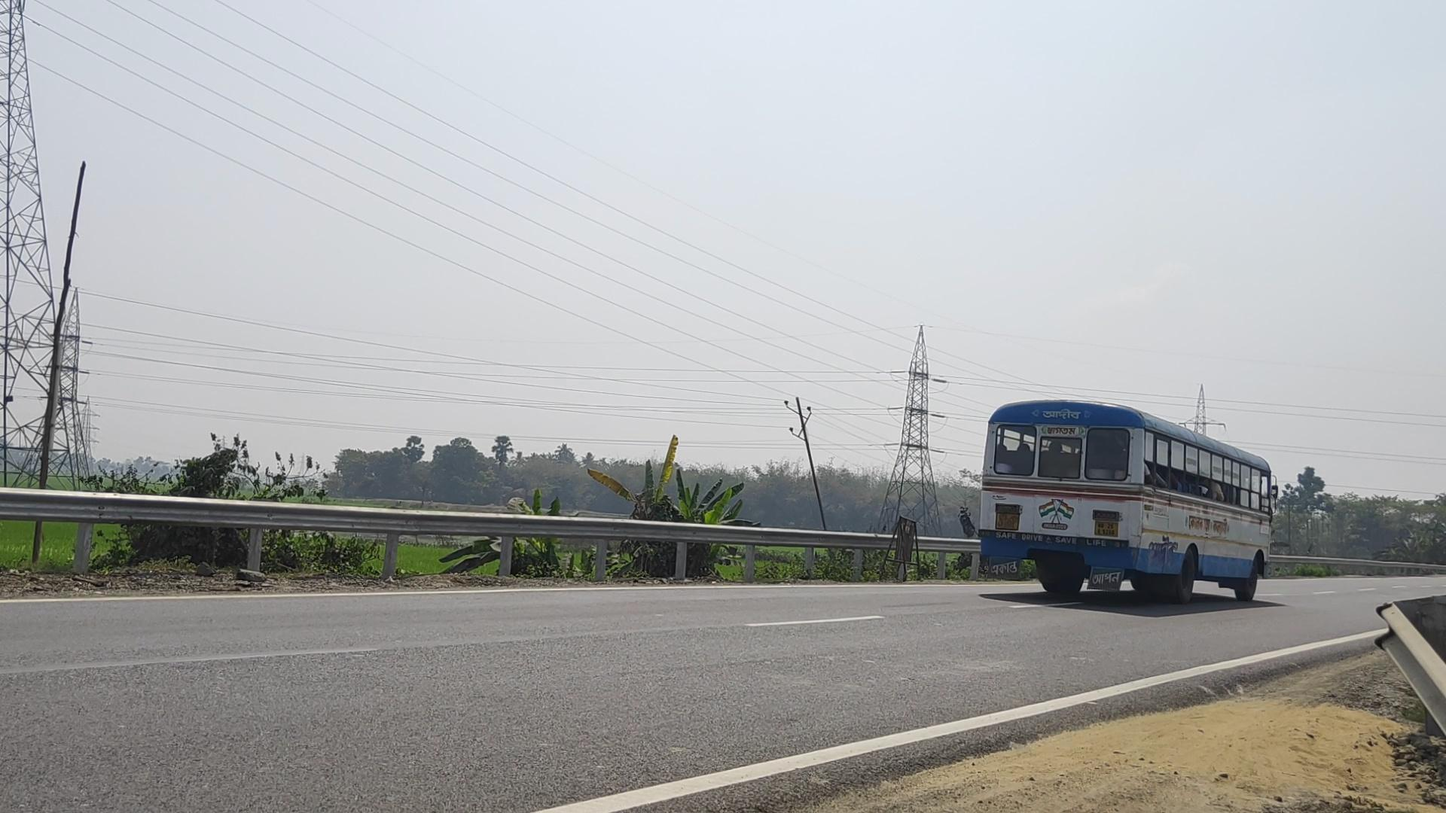Bus: (978, 399, 1278, 605)
